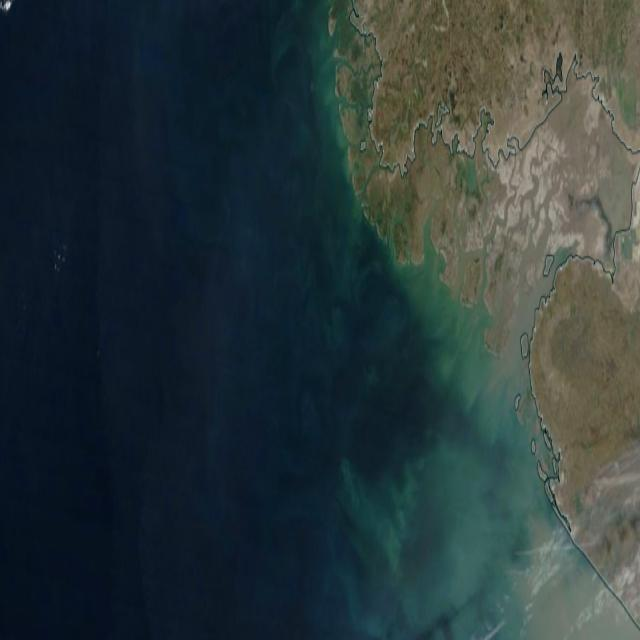algal: (179, 2, 534, 638)
